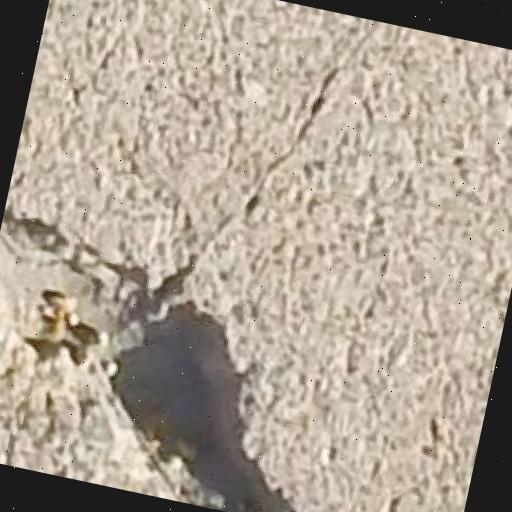spalling: (0, 170, 349, 512)
